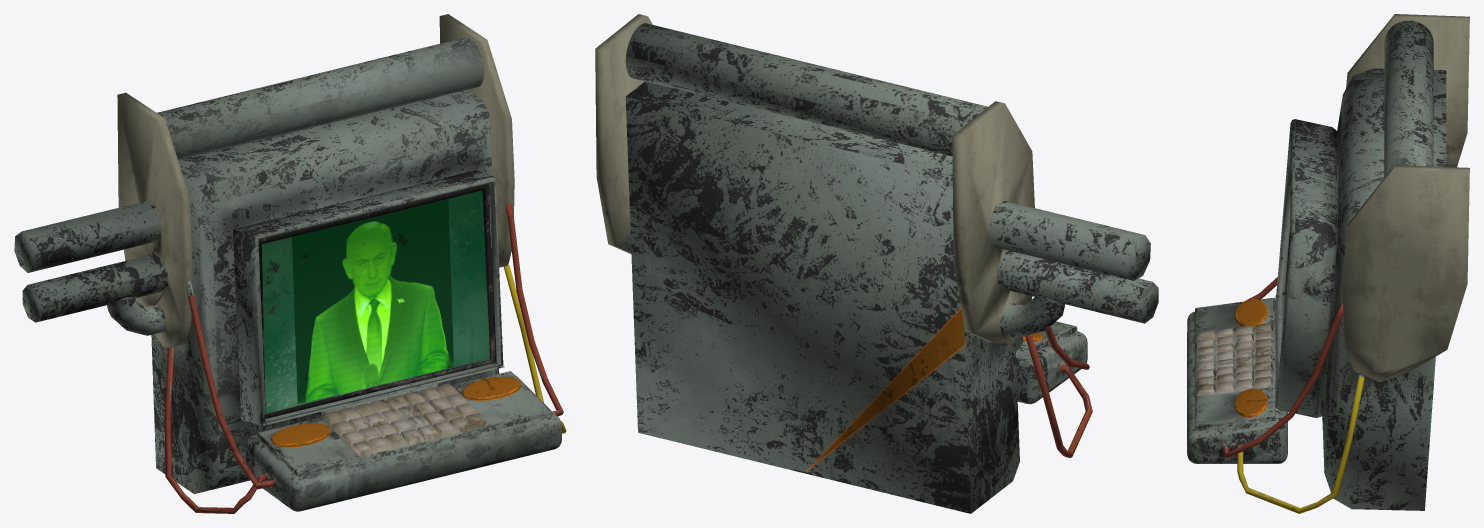
The model's file is terminal.glb.
3 views of the same model, side by side, from view 1: azimuth 30°, elevation 25°; view 2: azimuth 150°, elevation 25°; view 3: azimuth 270°, elevation 25° (orthographic). The views are drawn at different scales.
Parts seen in each view (by area): view 1: Cube; view 2: Cube; view 3: Cube.
Part boxes in pixels (box(x1,y1,x2,y2)): Cube: box(14, 14, 566, 513); Cube: box(595, 14, 1158, 513); Cube: box(1187, 14, 1469, 513).
Bounding box in the file's own units: 10.57 × 7.64 × 5.61.
1 material, 1 textured.
